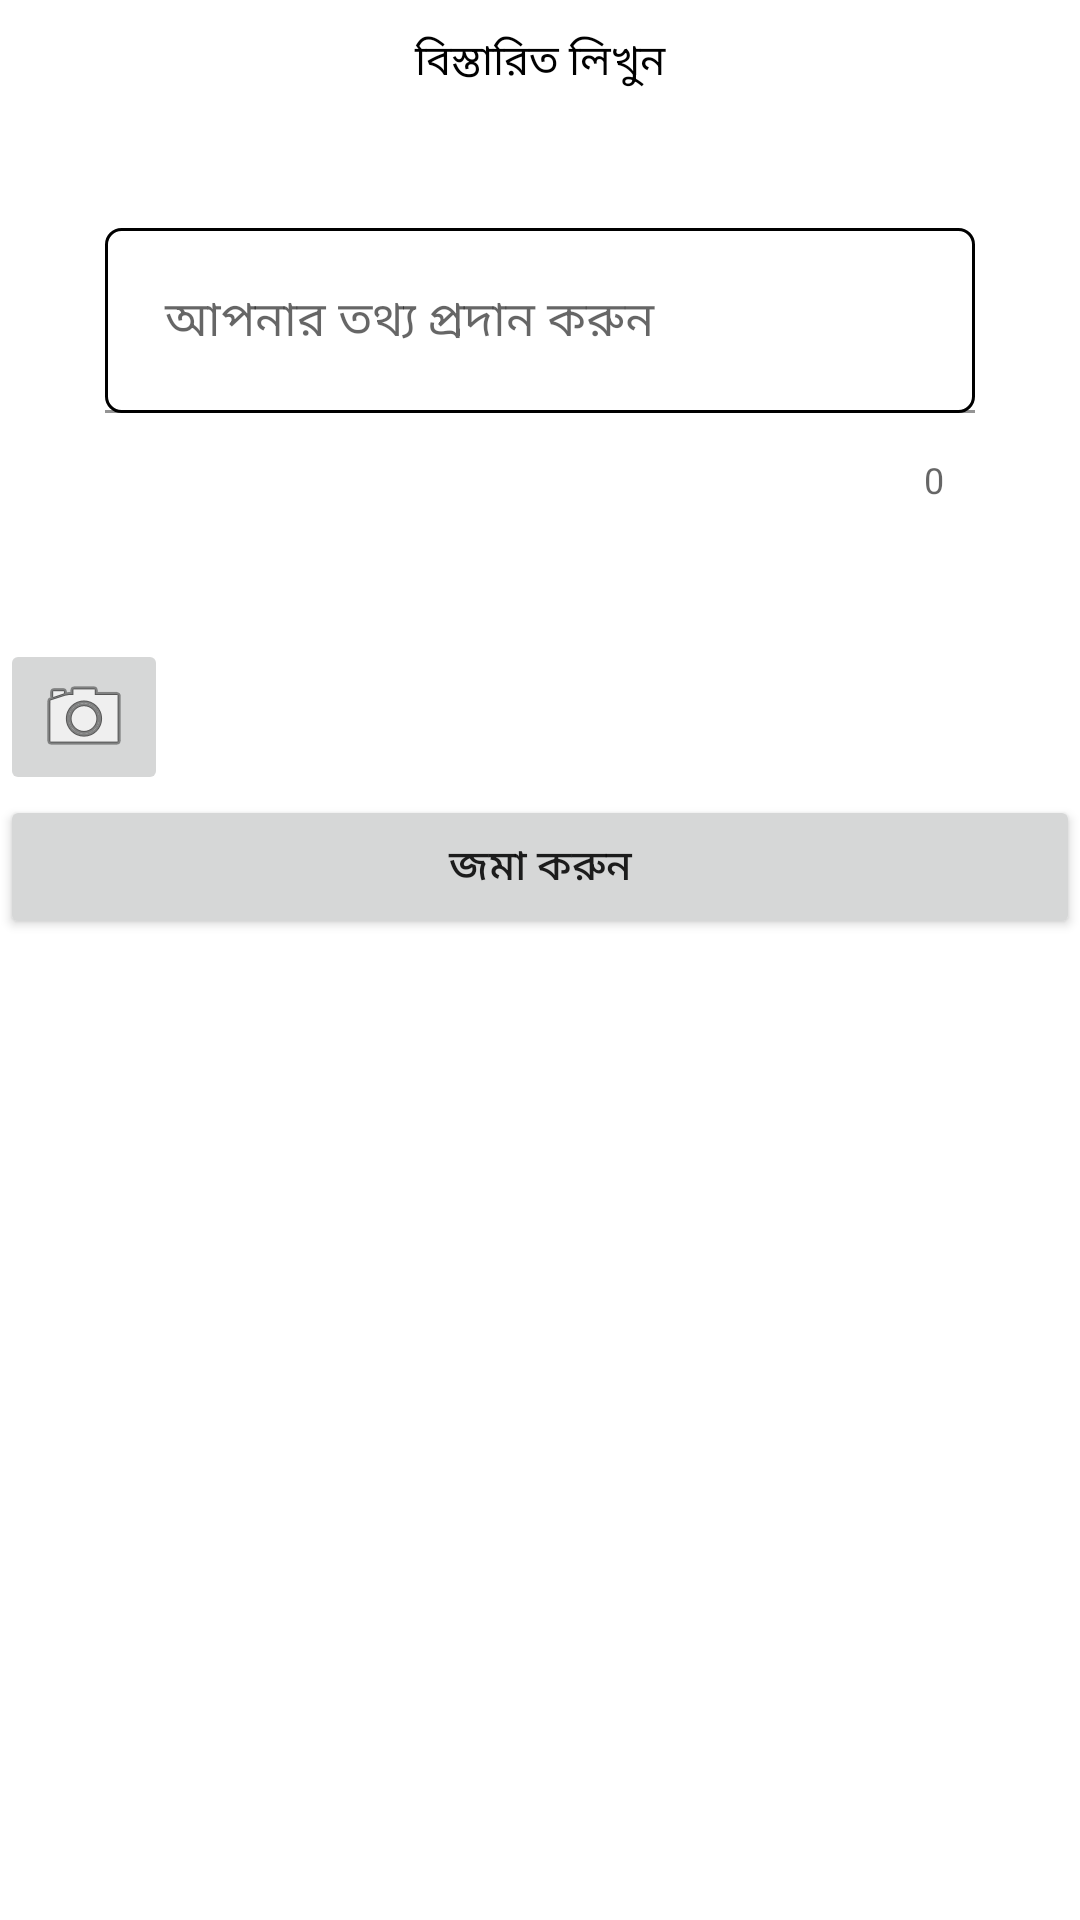

Where icons sit on this 1080*1920 app screen, as (x1,y1,x2,y2):
camera: (12,657,156,777)
